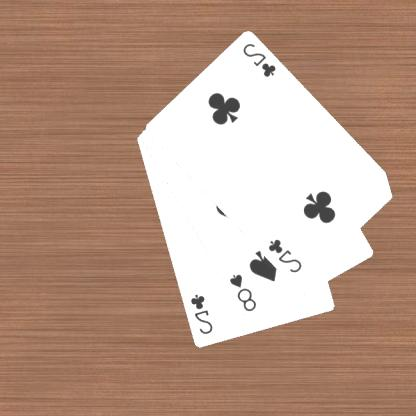2C: (241, 40, 280, 80), (267, 236, 305, 275), (188, 291, 216, 337)
8S: (228, 272, 260, 314)
